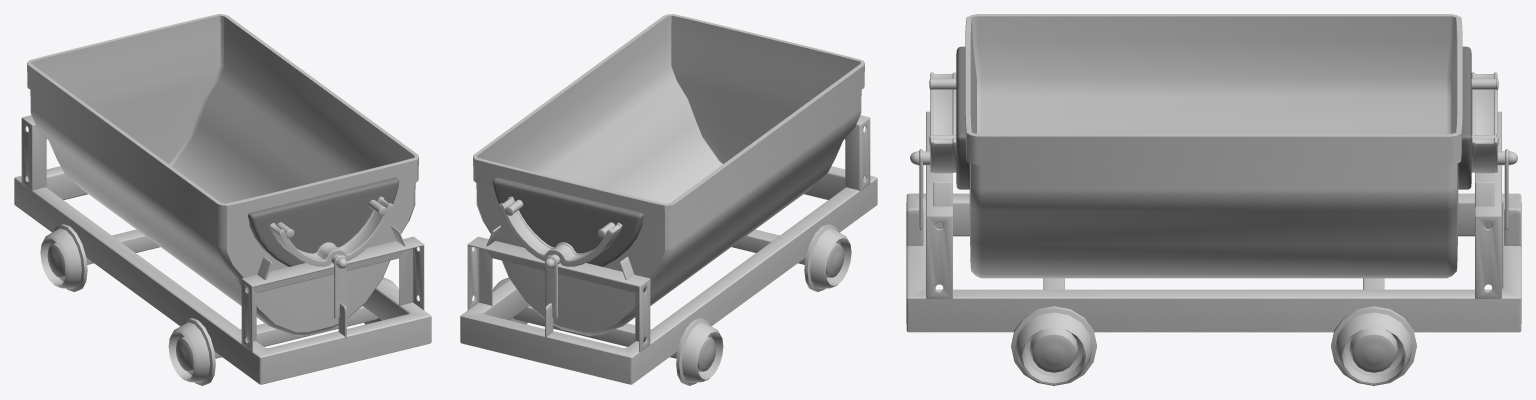
File: Trolly.fbx
3 renders of one model, left to right at view 1: azimuth 30°, elevation 25°; view 2: azimuth 150°, elevation 25°; view 3: azimuth 270°, elevation 25°, orthographic. The views are drawn at different scales.
Visible parts, largest first — view 1: Trolly; view 2: Trolly; view 3: Trolly.
Boxes of the visible parts, bbox=[...] form: Trolly: bbox=[14, 14, 431, 385]; Trolly: bbox=[460, 14, 877, 385]; Trolly: bbox=[906, 14, 1521, 385].
Size of the model in its own units: 1.95 by 1.79 by 3.9.
